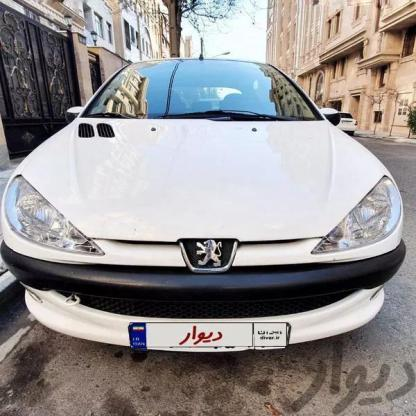Car: (0, 54, 401, 355), (330, 109, 362, 136)
